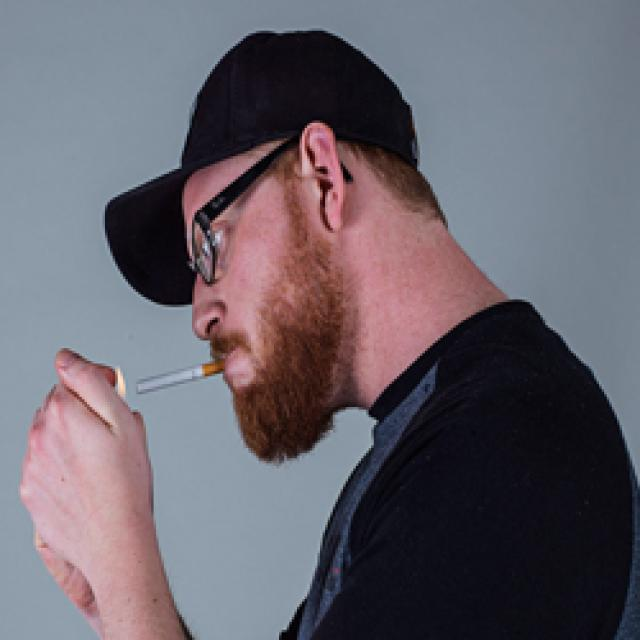Smooking: (128, 357, 225, 398)
